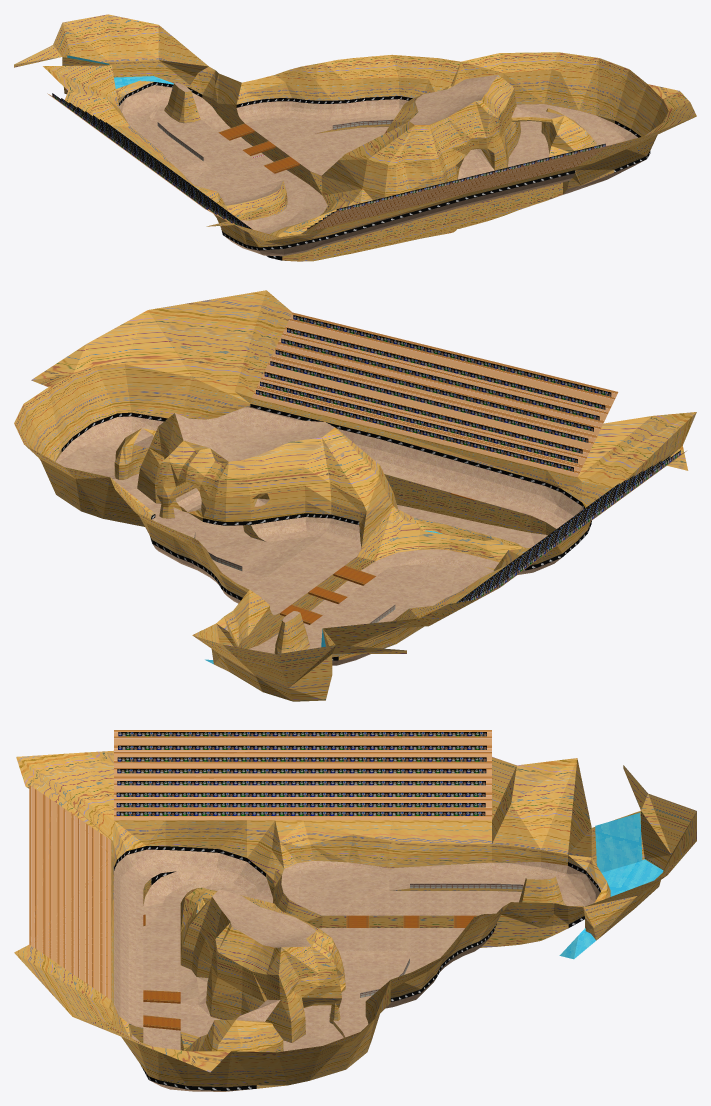
3 renders of one model, top to bottom at view 1: azimuth 30°, elevation 25°; view 2: azimuth 150°, elevation 25°; view 3: azimuth 270°, elevation 25°, orthographic. The views are drawn at different scales.
Parts seen in each view (by area): view 1: Canyon_Arena-SKP-CanyonWall.001, Canyon_Arena-SKP-Earth.001, Canyon_Arena-SKP-Stand.001, Canyon_Arena-SKP-Audience.001, Canyon_Arena-SKP-Halfpipe.001, Canyon_Arena-SKP-ShadedWall.001, Canyon_Arena-SKP-ShadedEarth.001, Canyon_Arena-SKP-Bridge.001, Canyon_Arena-SKP-Fence.001, Canyon_Arena-SKP-Water.001; view 2: Canyon_Arena-SKP-CanyonWall.001, Canyon_Arena-SKP-Earth.001, Canyon_Arena-SKP-Stand.001, Canyon_Arena-SKP-Audience.001, Canyon_Arena-SKP-Halfpipe.001, Canyon_Arena-SKP-ShadedWall.001, Canyon_Arena-SKP-ShadedEarth.001, Canyon_Arena-SKP-Bridge.001; view 3: Canyon_Arena-SKP-CanyonWall.001, Canyon_Arena-SKP-Earth.001, Canyon_Arena-SKP-Stand.001, Canyon_Arena-SKP-Audience.001, Canyon_Arena-SKP-Water.001, Canyon_Arena-SKP-Halfpipe.001, Canyon_Arena-SKP-Bridge.001, Canyon_Arena-SKP-ShadedWall.001, Canyon_Arena-SKP-ShadedEarth.001, Canyon_Arena-SKP-Fence.001.
Boxes of the visible parts, x1,y1,x2,y2 form: Canyon_Arena-SKP-CanyonWall.001: (14, 14, 696, 261); Canyon_Arena-SKP-Earth.001: (119, 75, 644, 260); Canyon_Arena-SKP-Stand.001: (47, 93, 609, 230); Canyon_Arena-SKP-Audience.001: (52, 93, 605, 229); Canyon_Arena-SKP-Halfpipe.001: (119, 82, 650, 260); Canyon_Arena-SKP-ShadedWall.001: (245, 120, 557, 251); Canyon_Arena-SKP-ShadedEarth.001: (233, 133, 548, 183); Canyon_Arena-SKP-Bridge.001: (218, 123, 299, 173); Canyon_Arena-SKP-Fence.001: (157, 119, 393, 160); Canyon_Arena-SKP-Water.001: (67, 55, 173, 88); Canyon_Arena-SKP-CanyonWall.001: (14, 290, 696, 701); Canyon_Arena-SKP-Earth.001: (55, 407, 583, 665); Canyon_Arena-SKP-Stand.001: (252, 312, 686, 599); Canyon_Arena-SKP-Audience.001: (256, 315, 680, 602); Canyon_Arena-SKP-Halfpipe.001: (61, 404, 591, 660); Canyon_Arena-SKP-ShadedWall.001: (127, 444, 474, 627); Canyon_Arena-SKP-ShadedEarth.001: (128, 474, 474, 614); Canyon_Arena-SKP-Bridge.001: (280, 493, 474, 624); Canyon_Arena-SKP-CanyonWall.001: (14, 750, 696, 1088); Canyon_Arena-SKP-Earth.001: (114, 849, 599, 1091); Canyon_Arena-SKP-Stand.001: (29, 730, 491, 999); Canyon_Arena-SKP-Audience.001: (116, 732, 486, 815); Canyon_Arena-SKP-Water.001: (585, 813, 663, 940); Canyon_Arena-SKP-Halfpipe.001: (114, 846, 600, 1090); Canyon_Arena-SKP-Bridge.001: (143, 914, 476, 1030); Canyon_Arena-SKP-ShadedWall.001: (199, 939, 343, 1033); Canyon_Arena-SKP-ShadedEarth.001: (143, 937, 345, 1050); Canyon_Arena-SKP-Fence.001: (360, 883, 523, 997).
Bounding box in the file's own units: 51690 × 9859 × 49956.
Materials: 13 (13 with a texture image).
